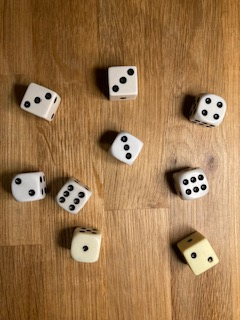four: (188, 93, 227, 131)
one: (69, 225, 104, 264)
six: (56, 176, 94, 214), (170, 166, 211, 201)
three: (18, 81, 62, 122), (106, 130, 145, 167), (106, 64, 140, 102)
two: (174, 231, 221, 277), (10, 171, 49, 202)
